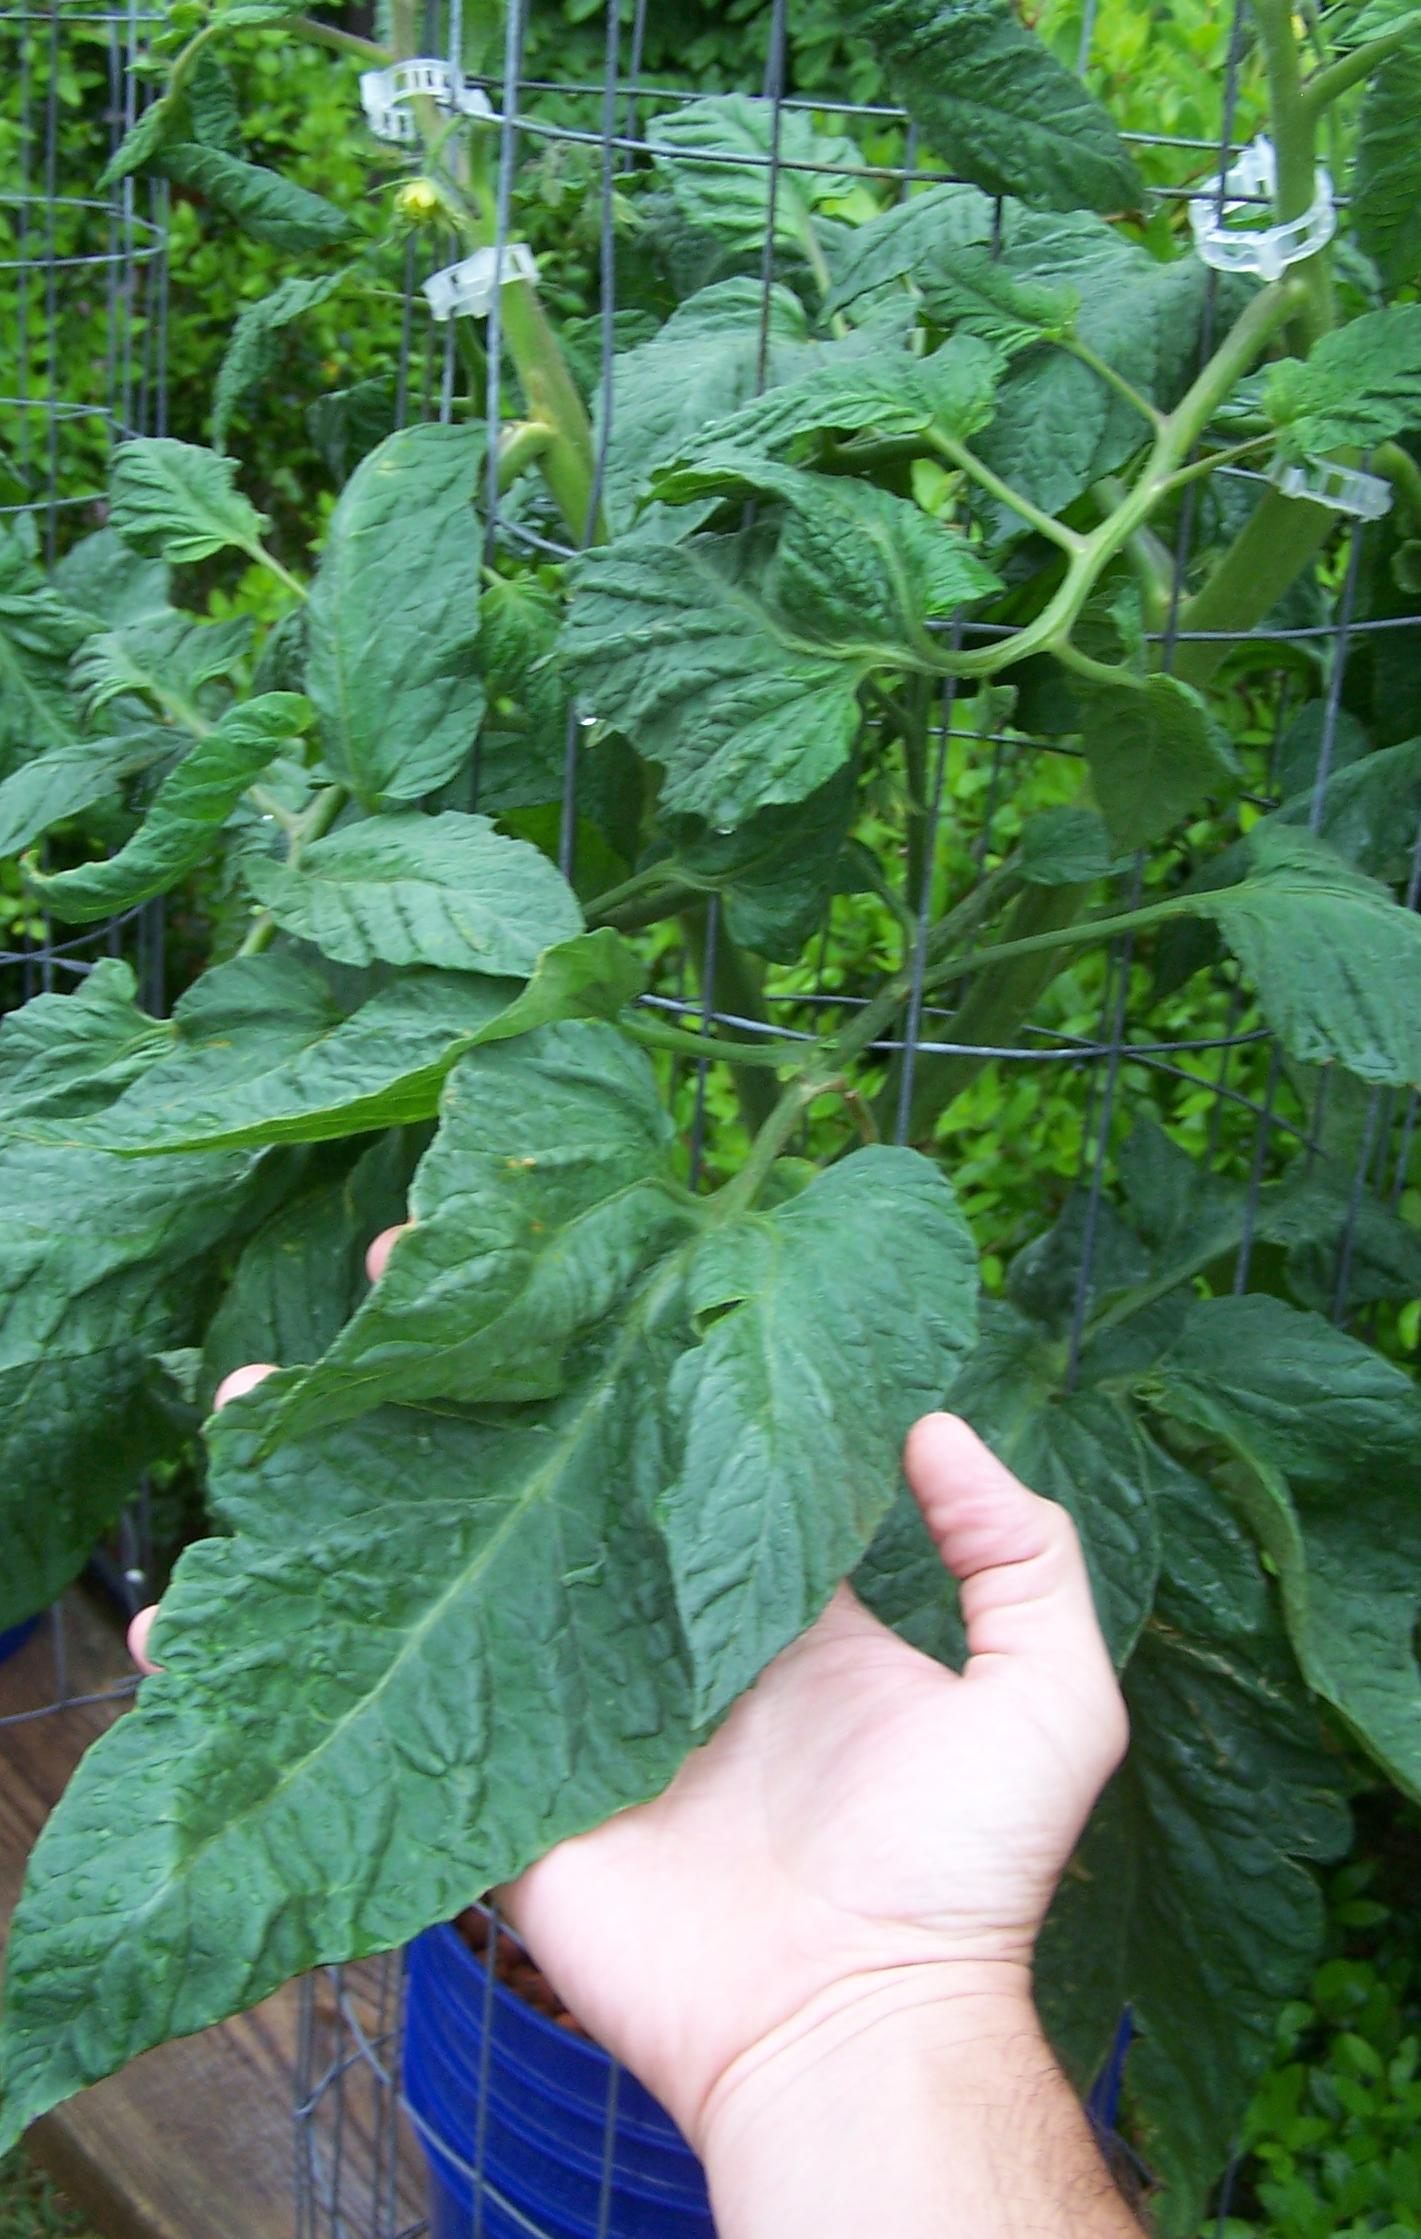Tomato leaf: (0, 1137, 928, 2144), (0, 995, 427, 1430), (308, 429, 525, 849), (574, 560, 886, 800), (248, 832, 625, 1005), (1237, 860, 1421, 1149), (1255, 256, 1421, 480), (86, 424, 279, 565)
